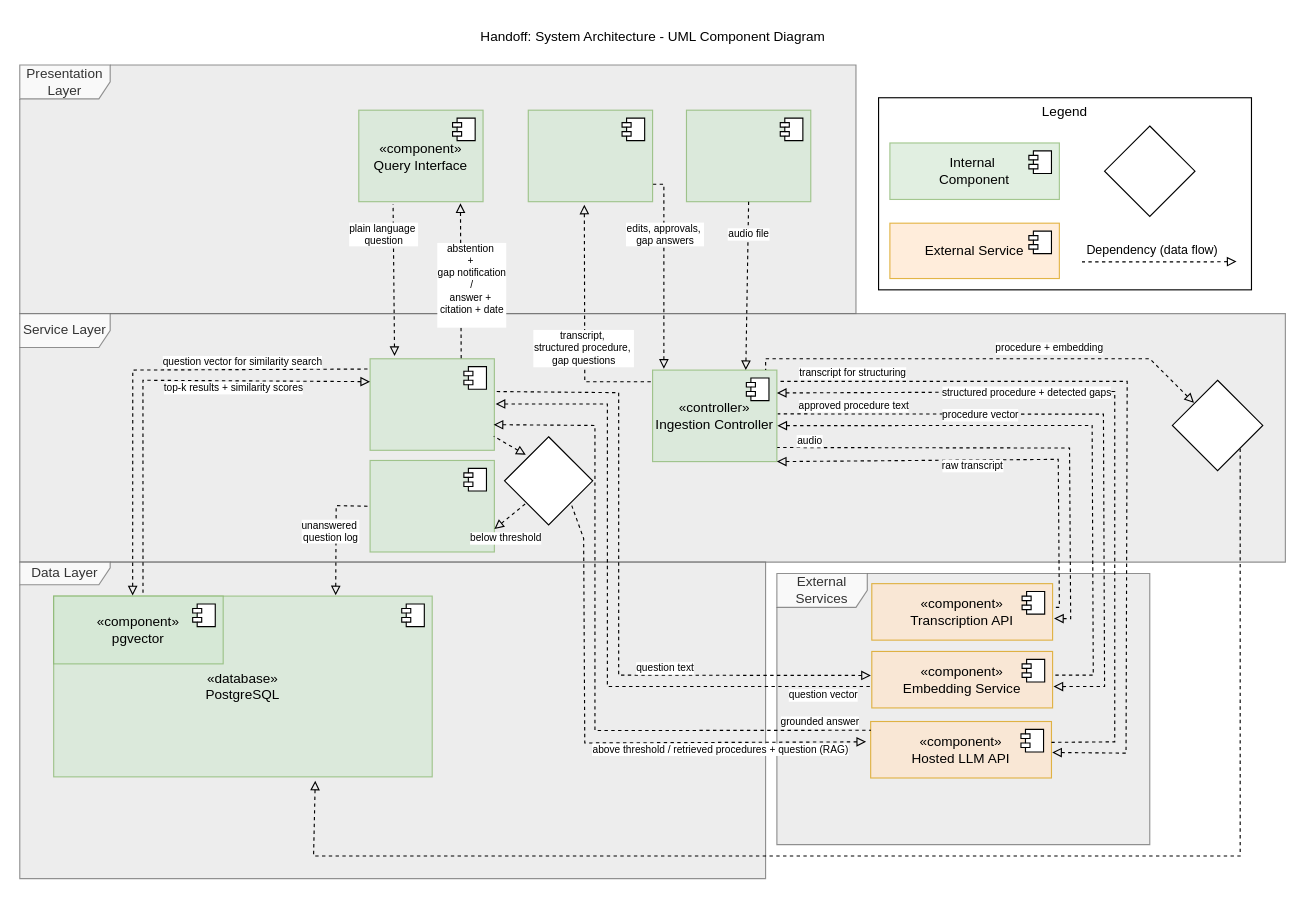
Image size: 1305x898. Some labels were removed from this diagram. The centre of each missing label's shape, as x and y in pixels:
Approval Gate: the point at 1217,425
Decision Gate: the point at 1149,170
Threshold Gate: the point at 548,480
«component» Recording Interface: the point at 748,155
«component» Review & Approval: the point at 590,155
«controller» Query Controller: the point at 431,404
«service» Gap Log Service: the point at 431,505
